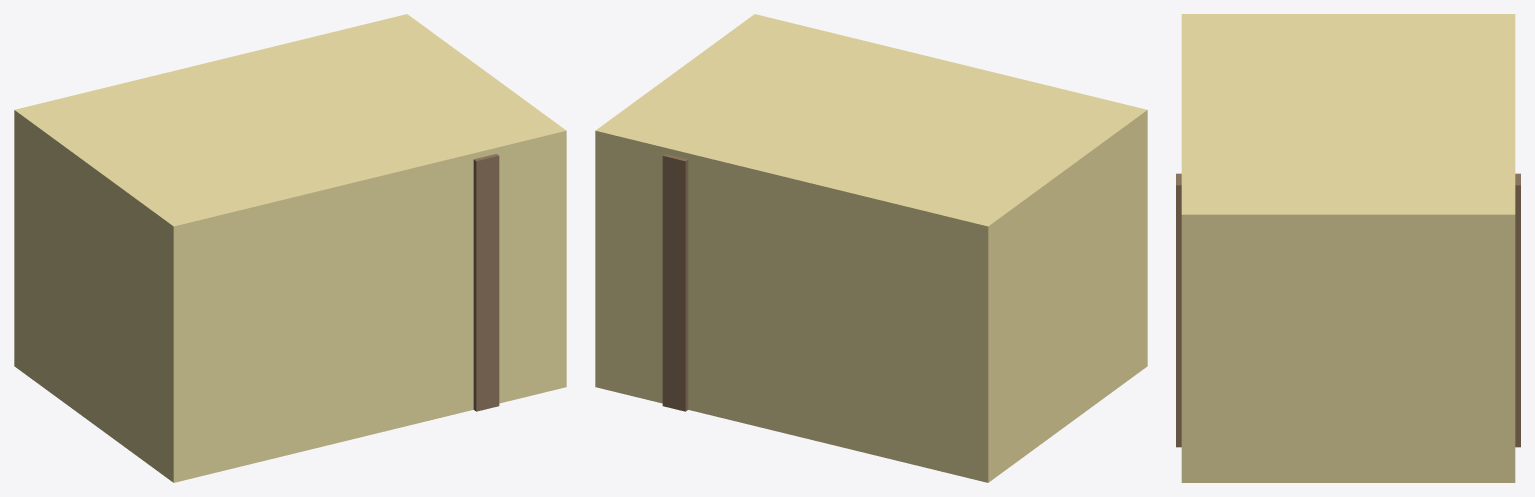
Rendered from Prop_Live_AMF_HayBale_V12.glb.
3 views of the same model, side by side, from view 1: azimuth 30°, elevation 25°; view 2: azimuth 150°, elevation 25°; view 3: azimuth 270°, elevation 25° (orthographic). The views are drawn at different scales.
Parts seen in each view (by area): view 1: Prop_Live_AMF_HayBale_V12; view 2: Prop_Live_AMF_HayBale_V12; view 3: Prop_Live_AMF_HayBale_V12.
Boxes of the visible parts, box(x1,y1,x2,y2) form: Prop_Live_AMF_HayBale_V12: box(14, 14, 566, 482); Prop_Live_AMF_HayBale_V12: box(595, 14, 1147, 482); Prop_Live_AMF_HayBale_V12: box(1176, 14, 1520, 482).
Size of the model in its own units: 0.8538 by 0.5326 by 0.62.
